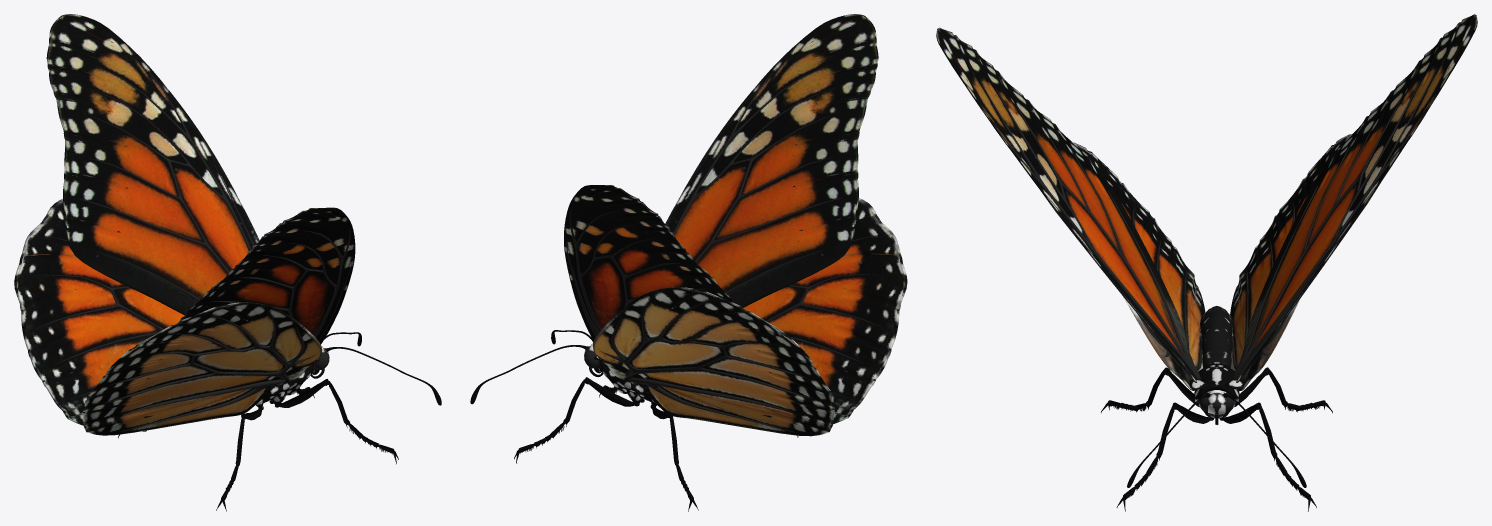
Rendered from Butterfly.fbx.
The picture shows the model from 3 angles, left to right: view 1: azimuth 30°, elevation 25°; view 2: azimuth 150°, elevation 25°; view 3: azimuth 270°, elevation 25°; orthographic projection. The views are drawn at different scales.
Visible parts, largest first — view 1: Abdomen.001_Abdomen.000, Abdomen.001_Abdomen.002; view 2: Abdomen.001_Abdomen.000, Abdomen.001_Abdomen.002; view 3: Abdomen.001_Abdomen.000, Abdomen.001_Abdomen.002.
Boxes of the visible parts, left/top/right/bottom form: Abdomen.001_Abdomen.000: left=14, top=14, right=355, bottom=435; Abdomen.001_Abdomen.002: left=118, top=332, right=441, bottom=511; Abdomen.001_Abdomen.000: left=564, top=14, right=907, bottom=436; Abdomen.001_Abdomen.002: left=470, top=330, right=798, bottom=511; Abdomen.001_Abdomen.000: left=936, top=14, right=1477, bottom=418; Abdomen.001_Abdomen.002: left=1101, top=367, right=1332, bottom=511.
Bounding box in the file's own units: 8015 × 8225 × 10000.
2 materials, 2 textured.
